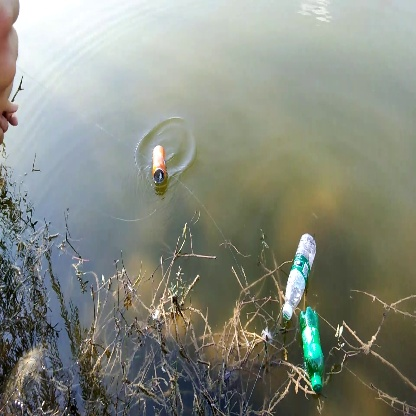bottle: (275, 229, 316, 322), (297, 307, 329, 393), (144, 143, 171, 184)
